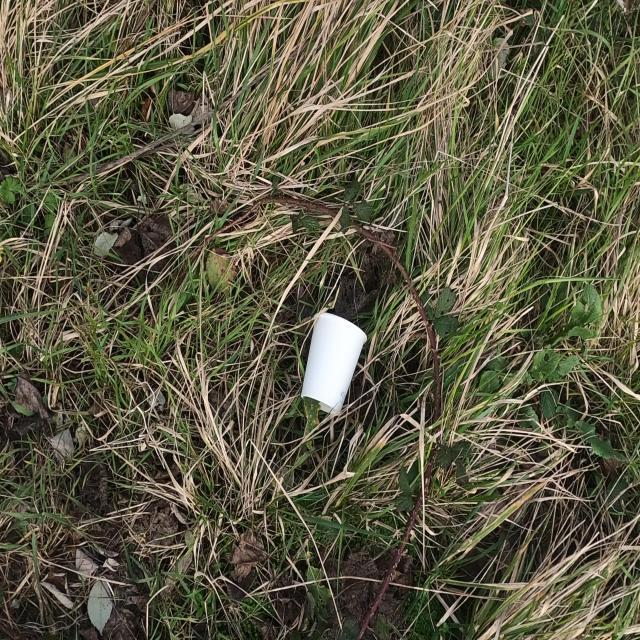Cup: (290, 308, 372, 423)
